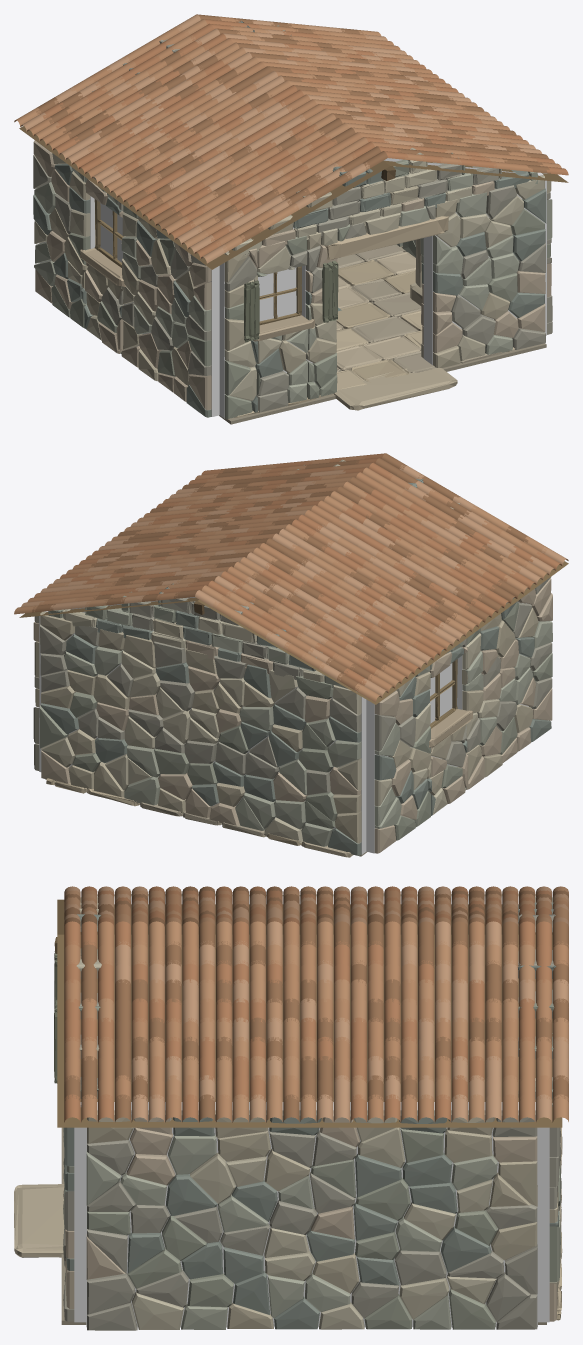
File: Maison_Corse_Accueil.fbx
3 renders of one model, top to bottom at view 1: azimuth 30°, elevation 25°; view 2: azimuth 150°, elevation 25°; view 3: azimuth 270°, elevation 25°, orthographic. The views are drawn at different scales.
Visible parts, largest first — view 1: Maconnerie, Tuiles, Dallage, Charpente_Mobilier, Joints, Vitres_Fenetres; view 2: Maconnerie, Tuiles, Joints, Charpente_Mobilier, Dallage, Vitres_Fenetres; view 3: Tuiles, Maconnerie, Charpente_Mobilier, Joints, Dallage.
Part boxes in pixels (x1=…): Maconnerie: x1=33, y1=21, x2=552, y2=419; Tuiles: x1=14, y1=14, x2=568, y2=263; Dallage: x1=219, y1=244, x2=546, y2=424; Charpente_Mobilier: x1=19, y1=126, x2=568, y2=342; Joints: x1=39, y1=158, x2=546, y2=418; Vitres_Fenetres: x1=100, y1=203, x2=296, y2=321; Maconnerie: x1=33, y1=459, x2=552, y2=855; Tuiles: x1=14, y1=453, x2=568, y2=702; Joints: x1=39, y1=597, x2=528, y2=854; Charpente_Mobilier: x1=19, y1=561, x2=568, y2=728; Dallage: x1=45, y1=778, x2=366, y2=857; Vitres_Fenetres: x1=429, y1=663, x2=452, y2=723; Tuiles: x1=64, y1=886, x2=568, y2=1122; Maconnerie: x1=63, y1=893, x2=561, y2=1330; Charpente_Mobilier: x1=54, y1=899, x2=562, y2=1127; Joints: x1=74, y1=896, x2=549, y2=1327; Dallage: x1=14, y1=1127, x2=562, y2=1324.
Bounding box in the file's own units: 714 × 437 × 725.
